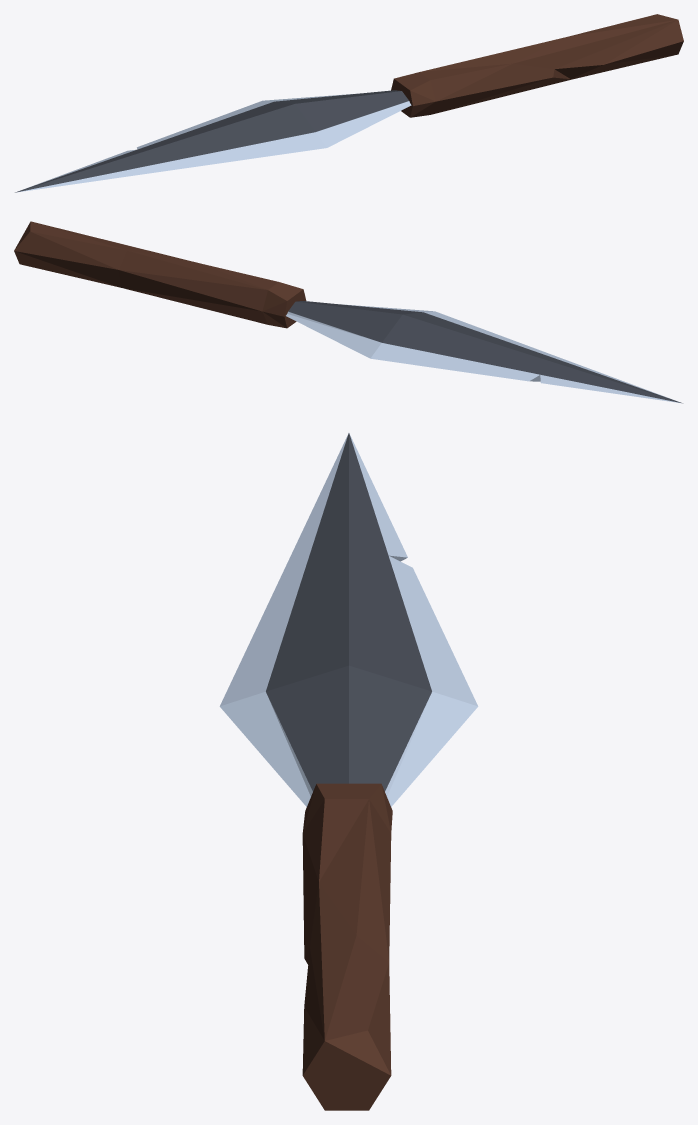
The model's file is Kunai_2 Asia.fbx.
3 views of the same model, one above another, from view 1: azimuth 30°, elevation 25°; view 2: azimuth 150°, elevation 25°; view 3: azimuth 270°, elevation 25° (orthographic). The views are drawn at different scales.
Parts seen in each view (by area): view 1: Kunai_2; view 2: Kunai_2; view 3: Kunai_2.
Part boxes in pixels (x1,y1,x2,y2): Kunai_2: (15, 14, 683, 192); Kunai_2: (14, 221, 683, 403); Kunai_2: (219, 433, 478, 1110).
Size of the model in its own units: 0.3765 by 0.0224 by 0.0641.
